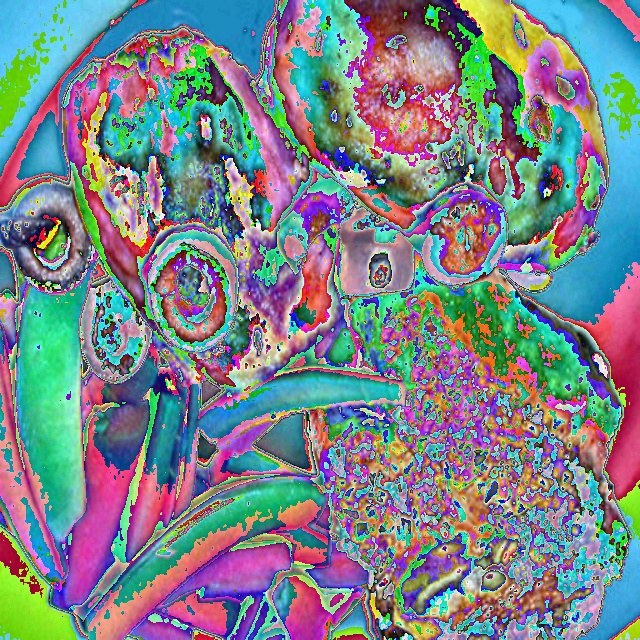background: (0, 0, 632, 640)
